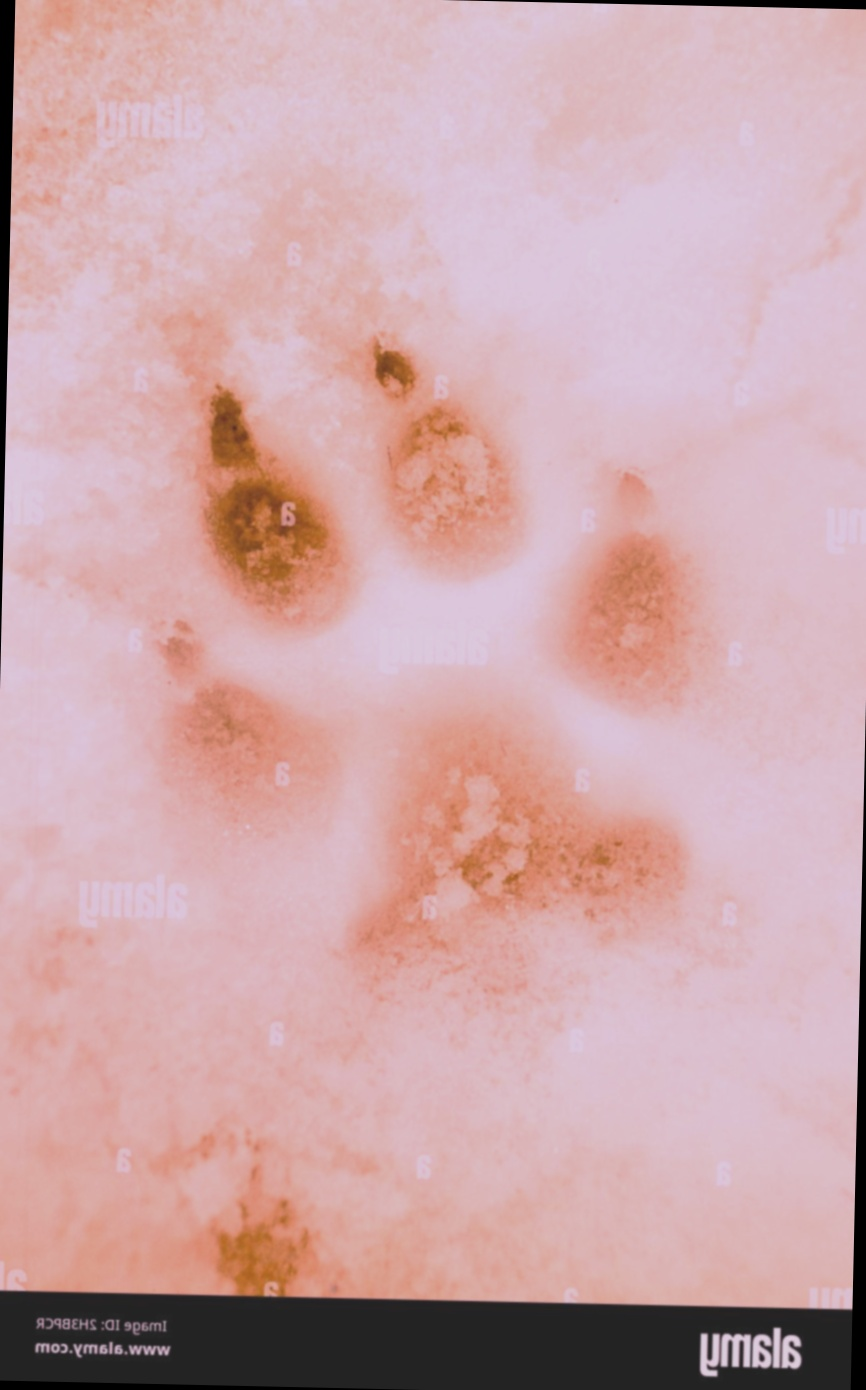loup: (87, 284, 767, 1140)
